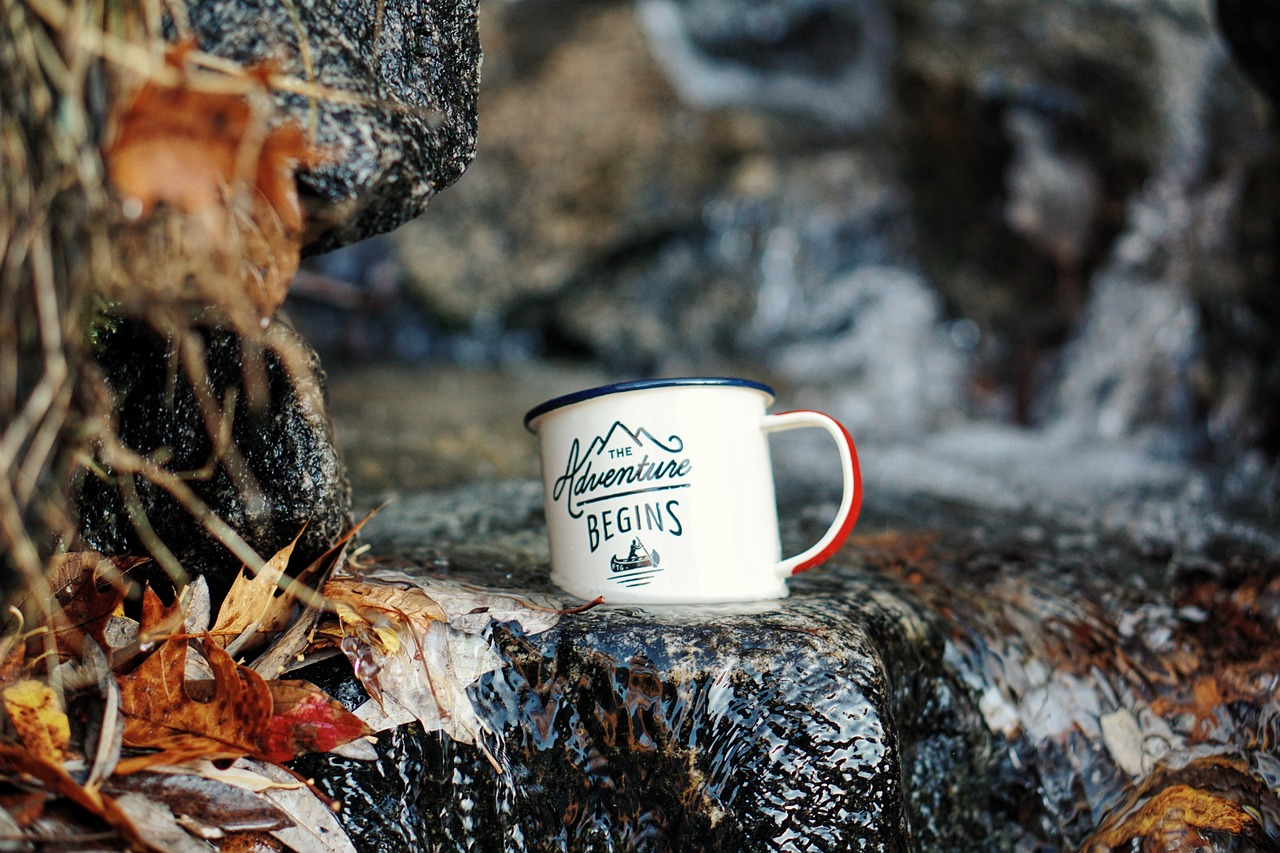mug: (511, 349, 892, 684)
